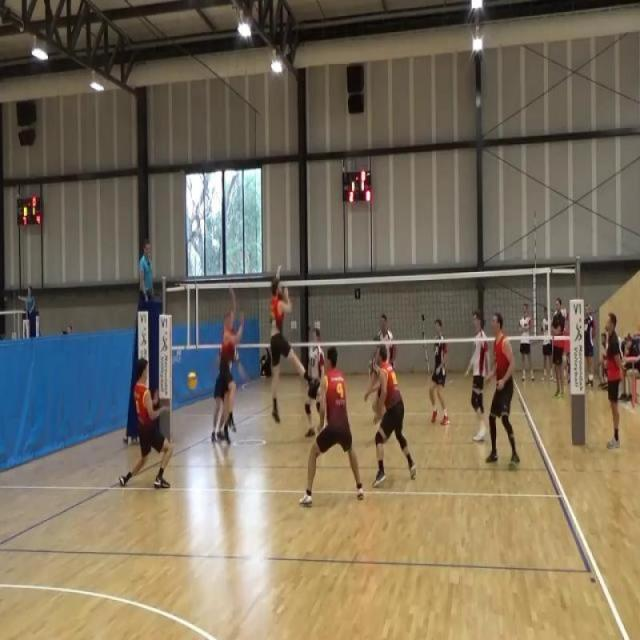volleyball: (186, 369, 198, 392)
